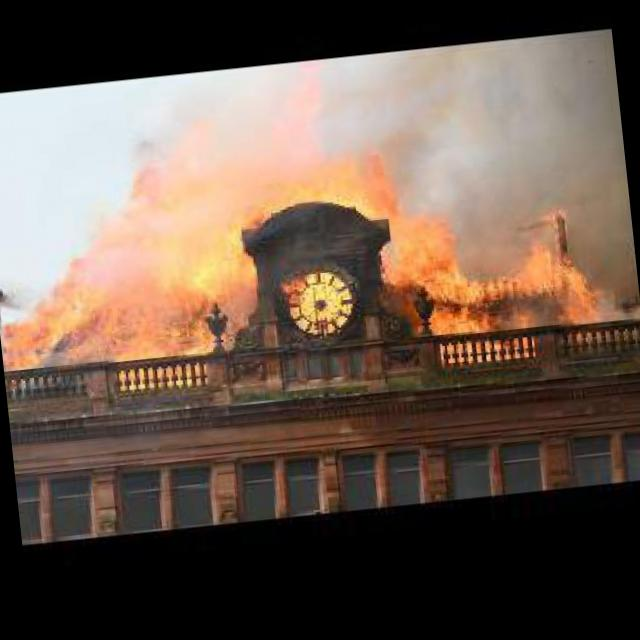fire: (0, 72, 611, 391)
